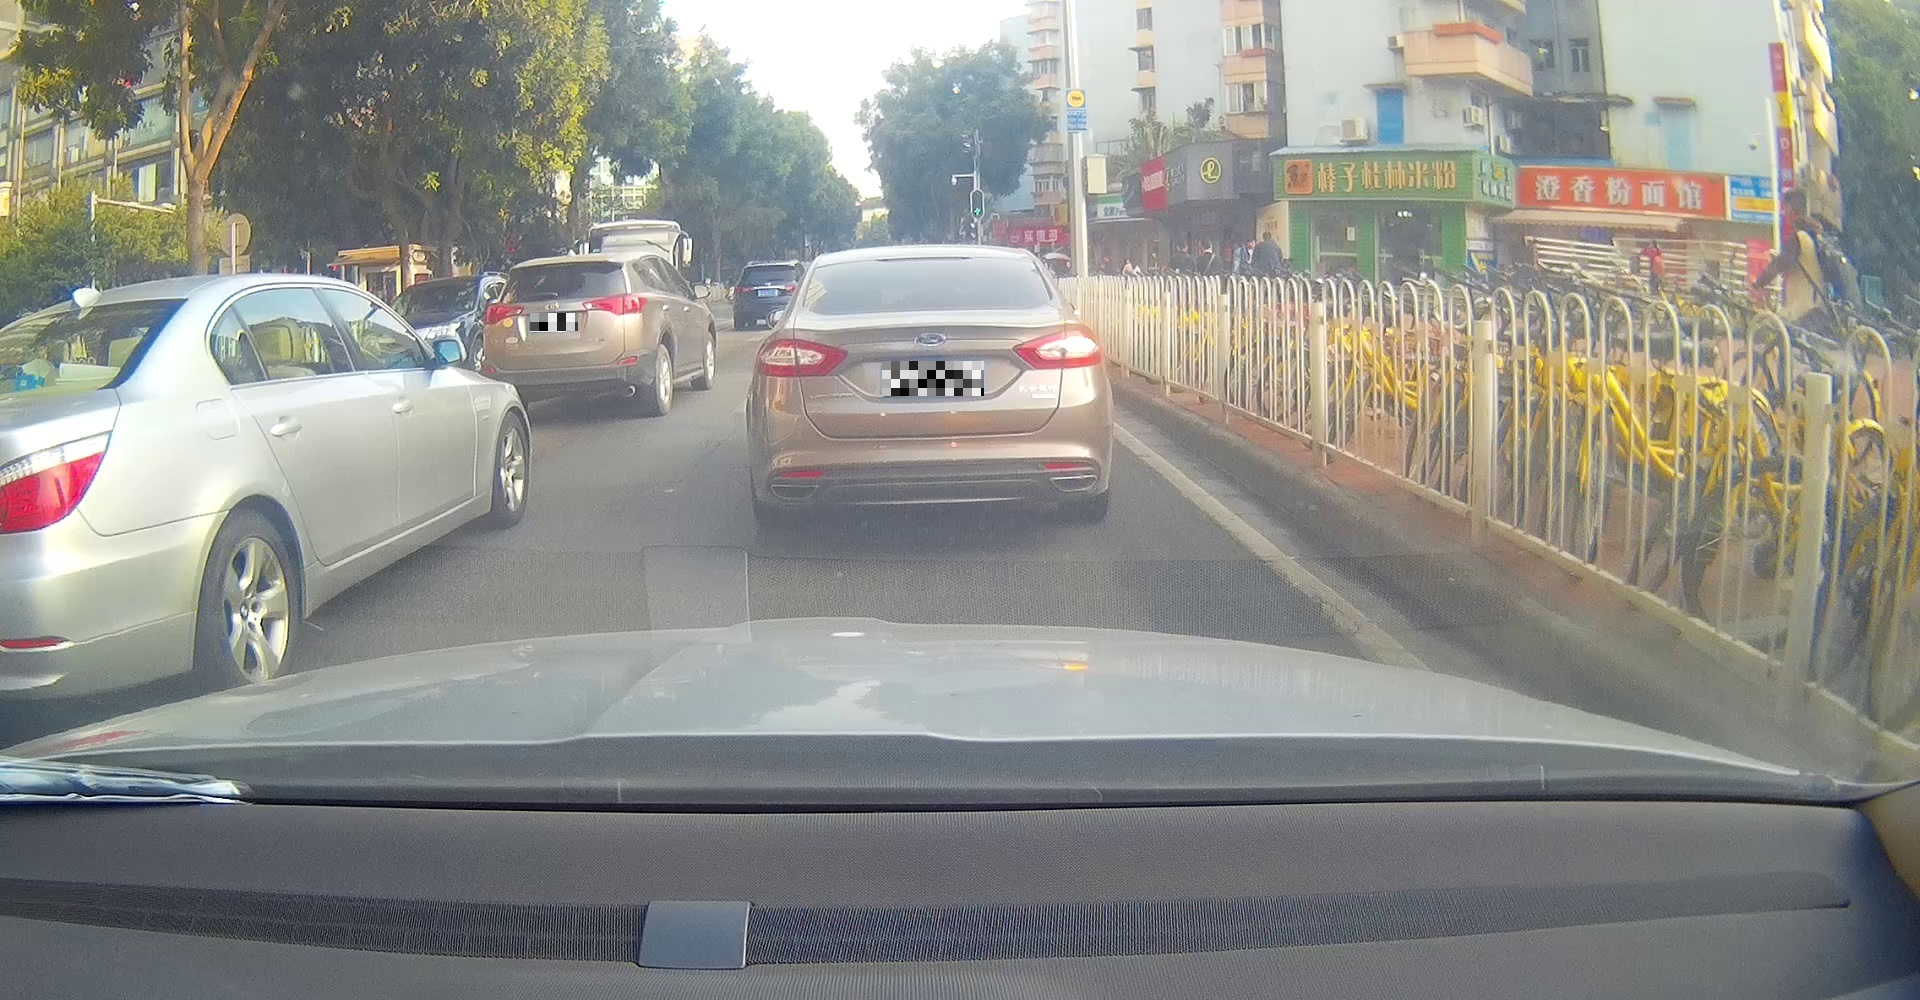L_light: (754, 338, 848, 377), (483, 303, 524, 325)
R_light: (1013, 326, 1103, 369), (582, 293, 648, 315)
T_light: (897, 258, 952, 266), (546, 266, 571, 273)
day-no: (483, 255, 651, 418)
day-right: (754, 244, 1103, 529)
plate_1: (530, 313, 578, 332)
plate_2: (883, 360, 984, 396)
